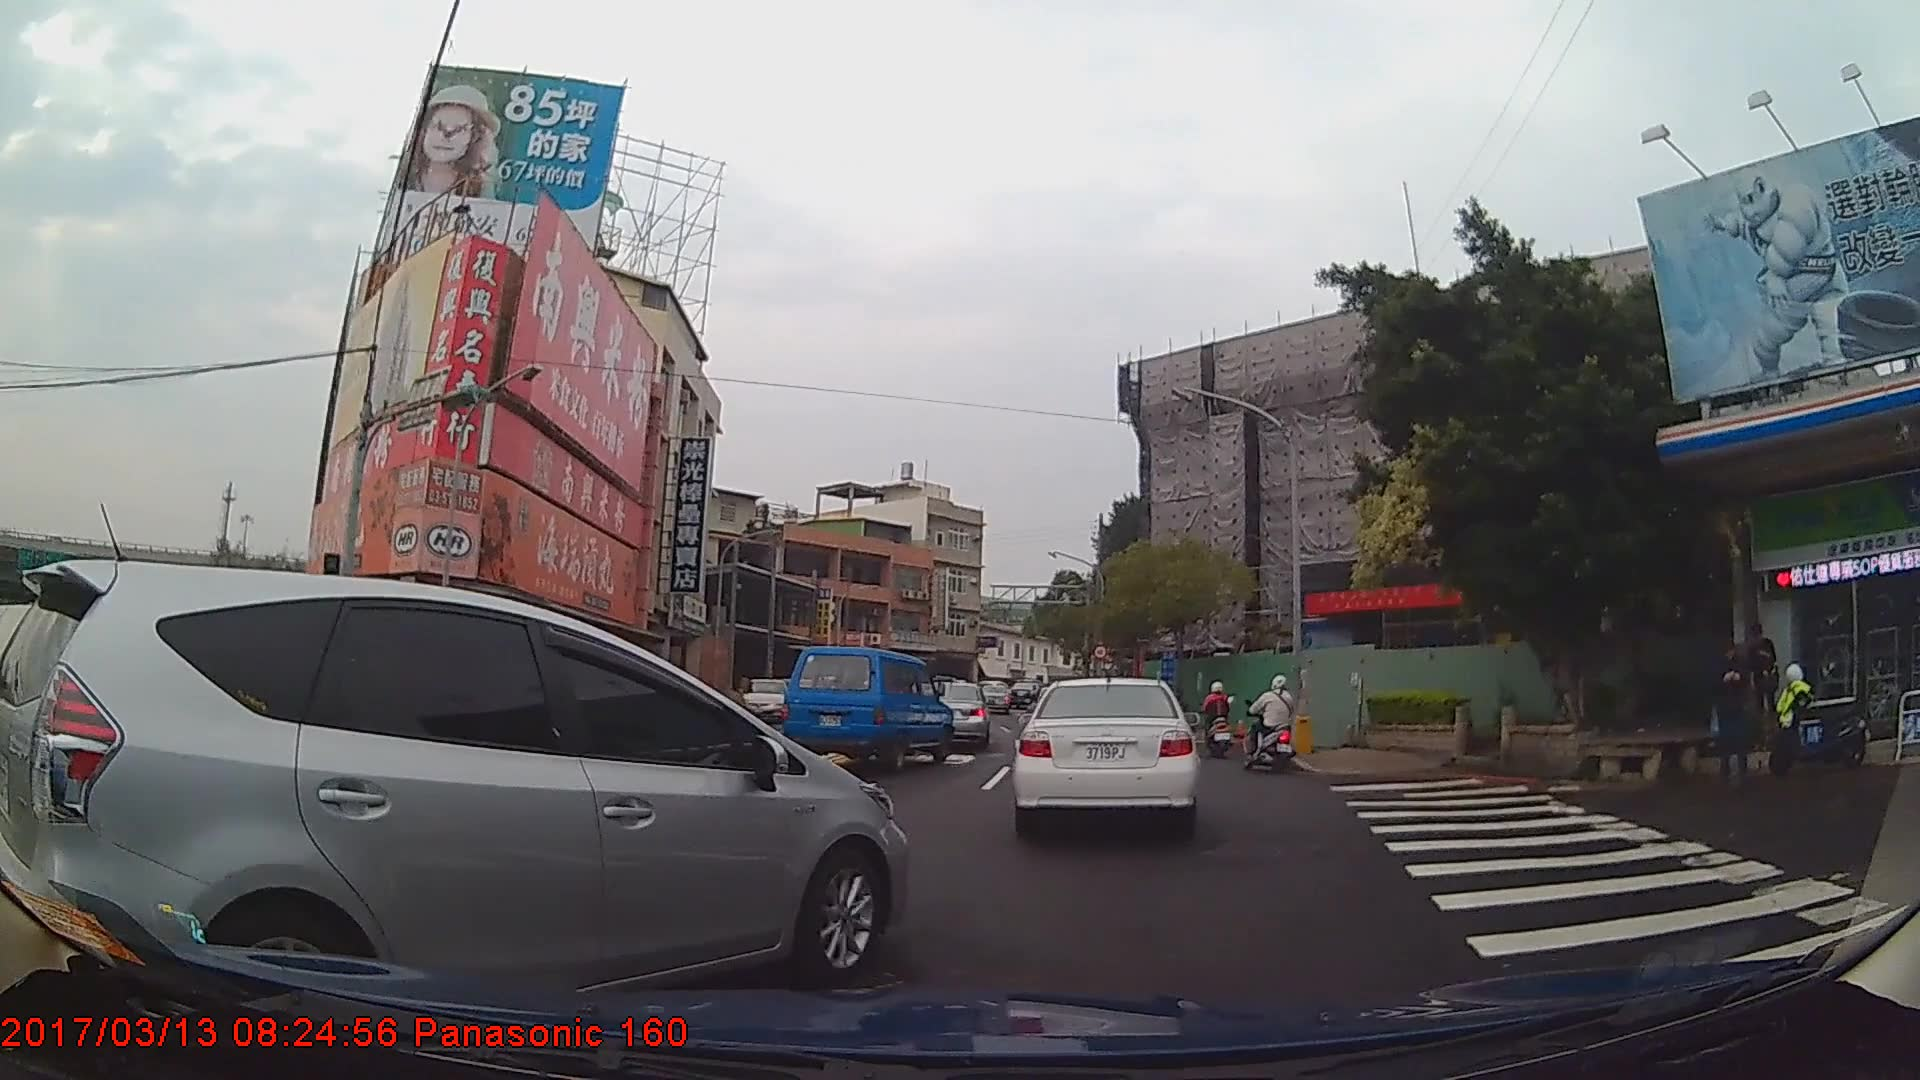pedestrian: (1710, 640, 1754, 783), (1742, 620, 1781, 736)
rider: (1246, 671, 1299, 771), (1202, 680, 1236, 758)
vehicle: (2, 558, 908, 1025), (1013, 674, 1204, 837), (780, 644, 954, 769), (921, 679, 994, 748), (734, 676, 794, 723)
